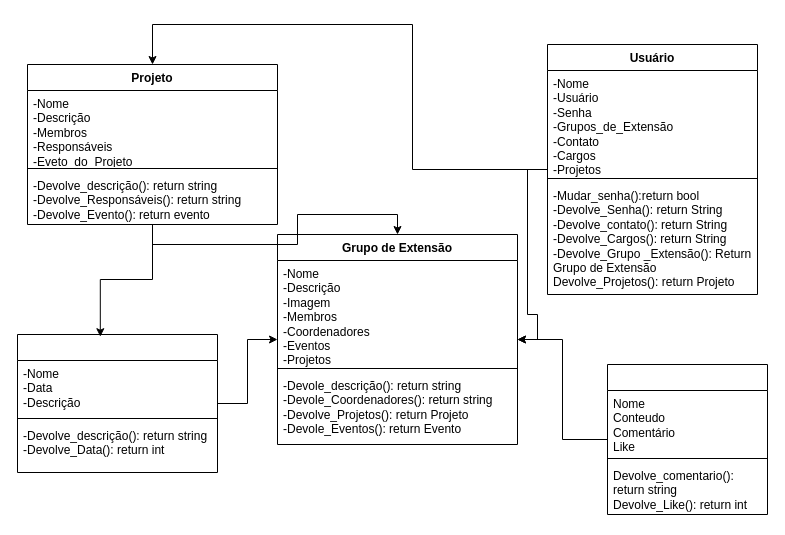
Image size: 785x535. Some labels were removed from this diagram. Here are the shapes that lost their labels. From the top down, the box of each, then its label:
(16, 334, 218, 472): Evento
(606, 364, 768, 514): Post
